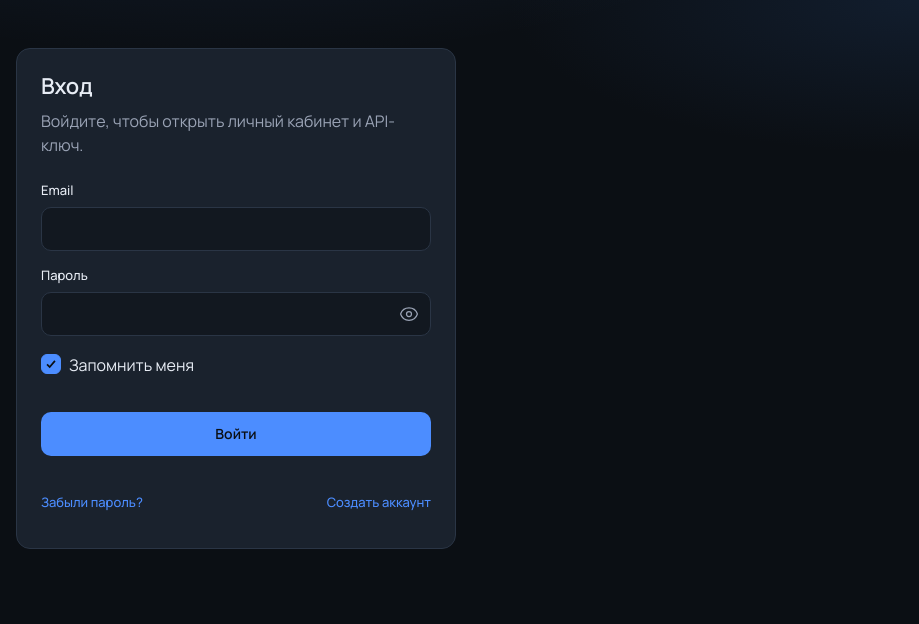
Scenario: LoginPage › показывает ошибки полей при пустой отправке
Click the button "Войти": (236, 434) [41, 412, 431, 456]
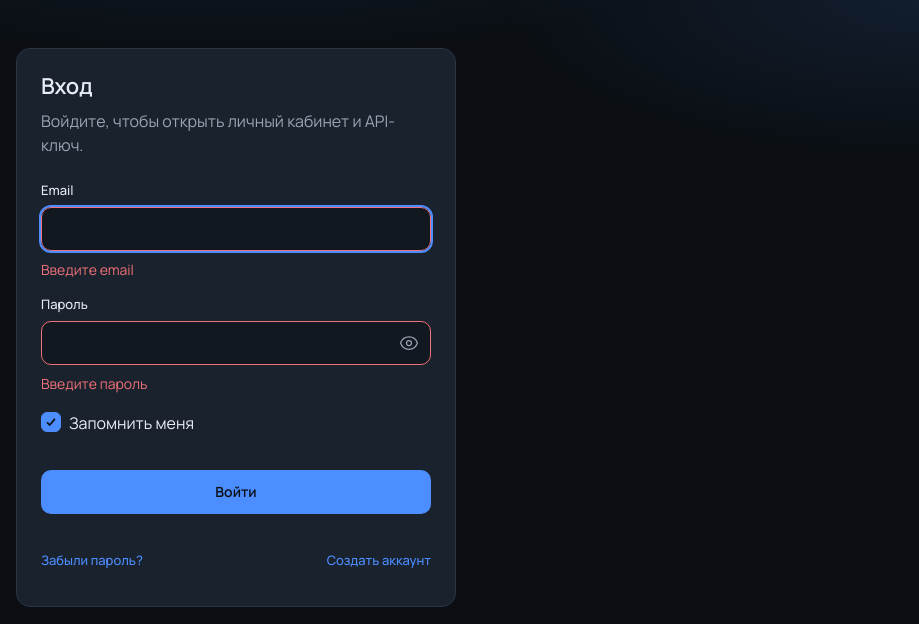
Expected: the text "Введите email" is shown, [41, 260, 134, 279]
Expected: the text "Введите пароль" is shown, [41, 374, 148, 393]
